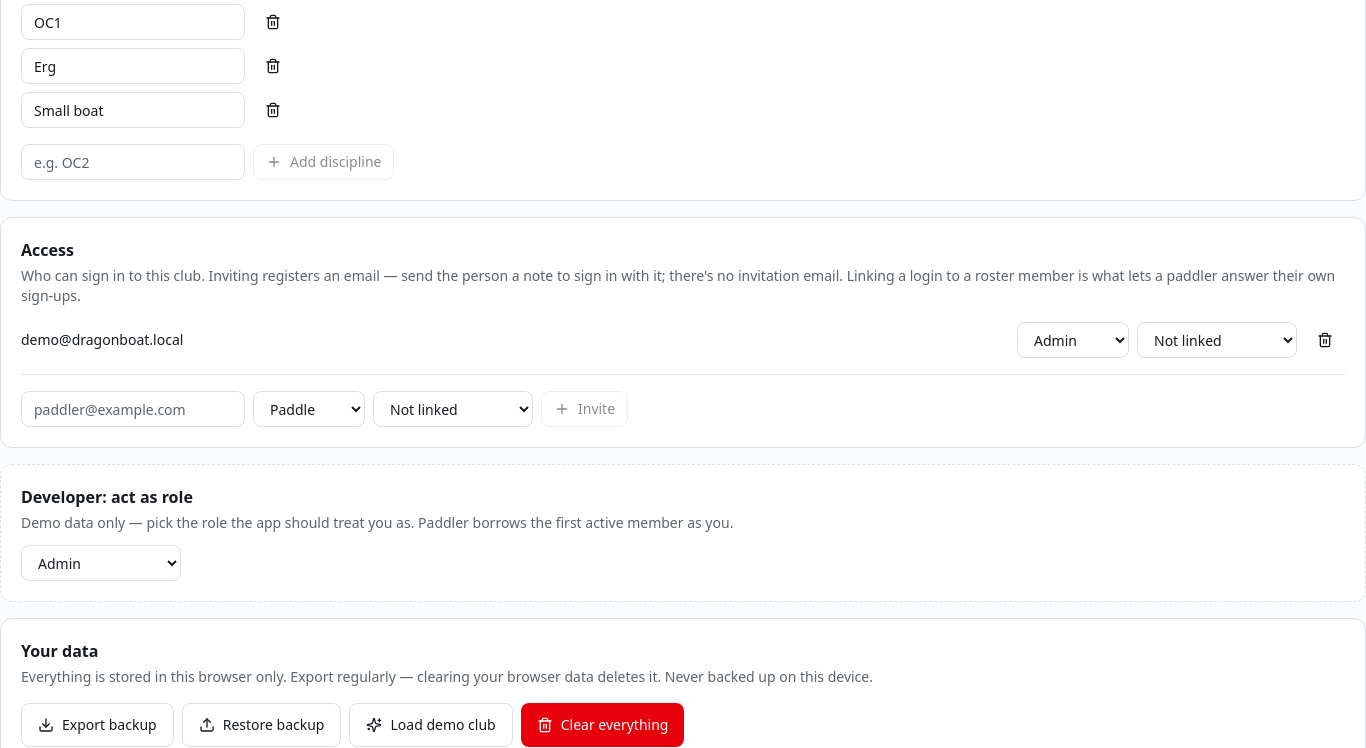
Test: SettingsPage access › lists the current login and registers an invited email
(page scrolled)
Expected: the heading "Access" is shown, [21,239,74,261]
Expected: the text "demo@dragonboat.local" is shown, [21,330,183,349]
Type "New.Paddler@Example.com" into the field named "Email to invite". click: (133, 409)
box: [21,391,245,427]
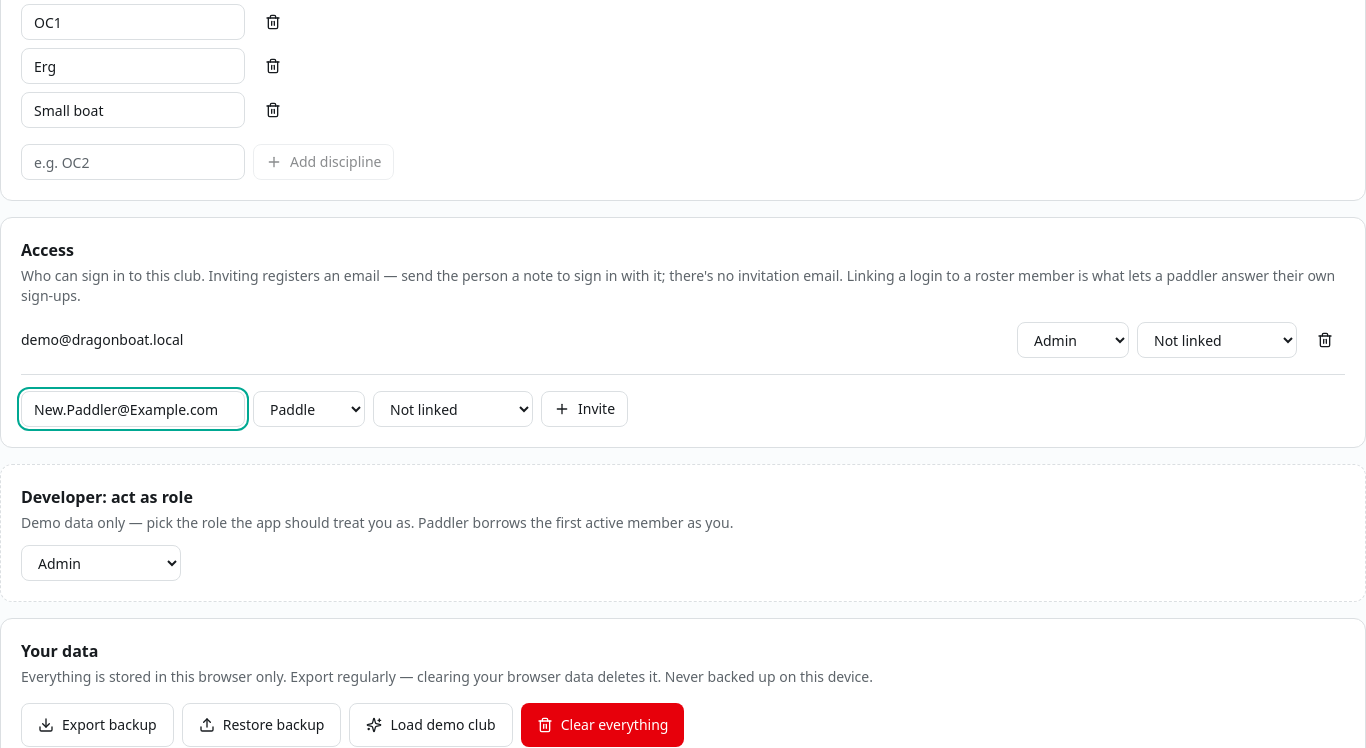
Select "Paddler" in the dropdown named "Role for the invitation". click: (309, 409)
box: [253,391,365,427]
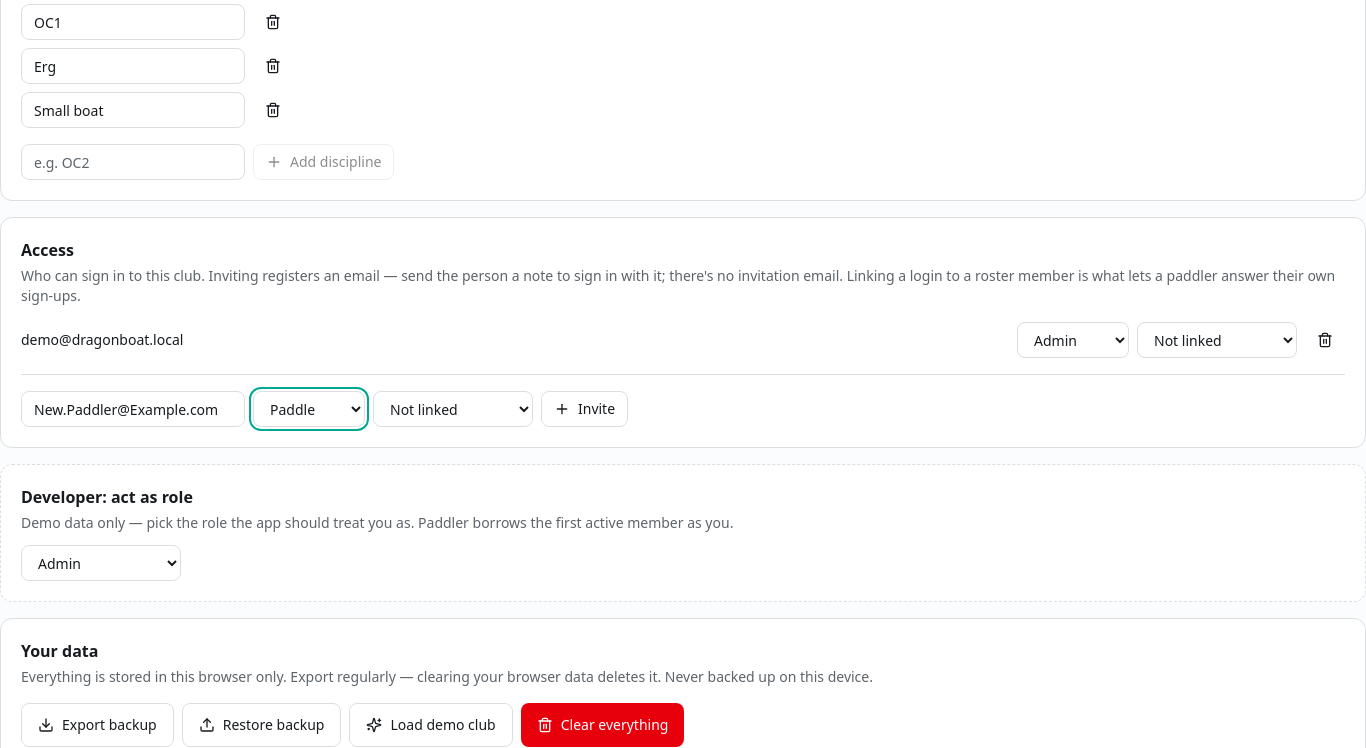
Click the button "Invite". click: (585, 409)
box: [541,391,628,427]
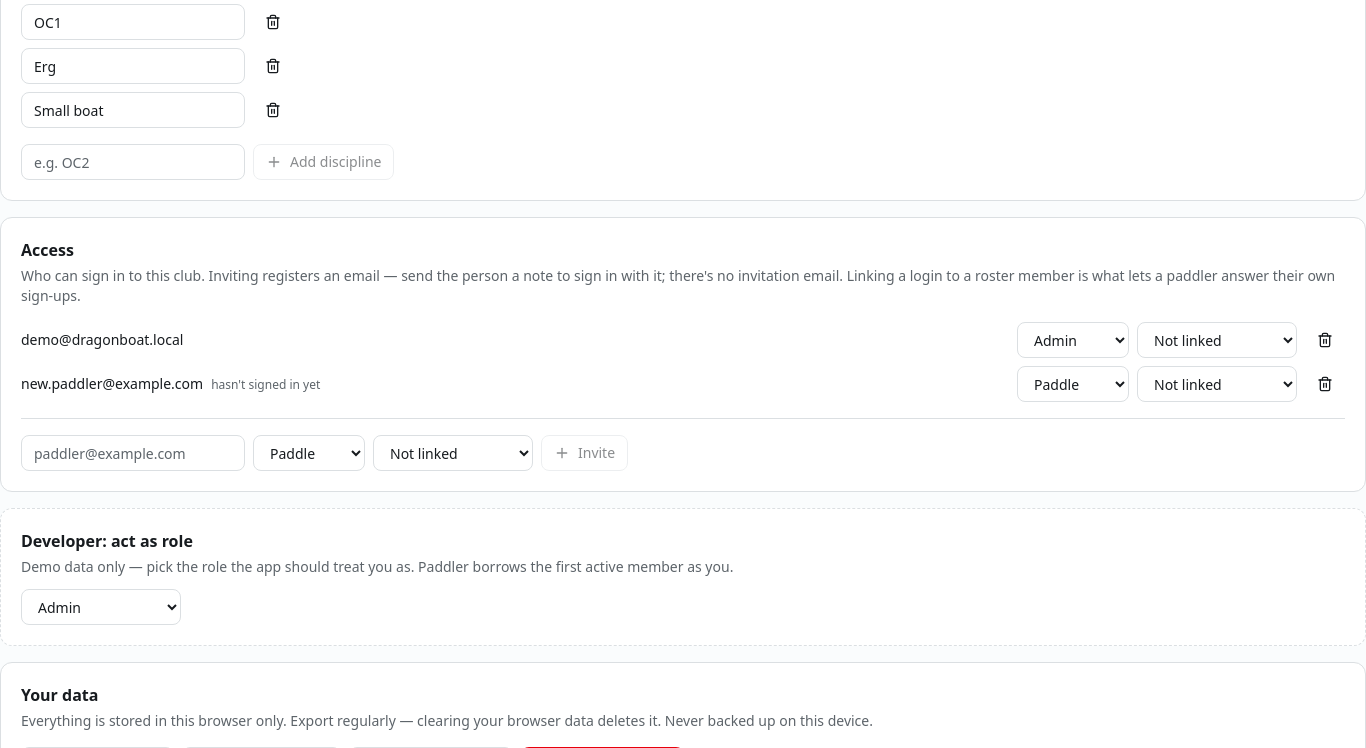
Result: the text "new.paddler@example.com" is shown at [21,374,203,393]
Result: the text "hasn't signed in yet" is shown at [211,376,320,393]
